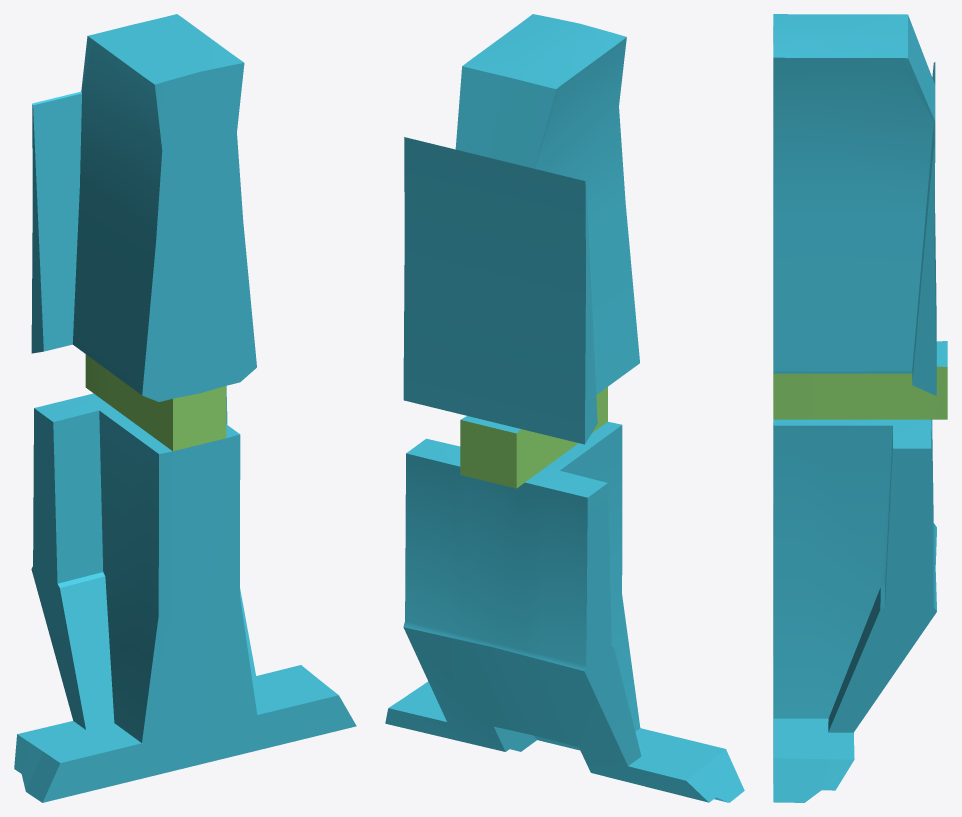
Rendered from T2_Column2.fbx.
3 renders of one model, left to right at view 1: azimuth 30°, elevation 25°; view 2: azimuth 150°, elevation 25°; view 3: azimuth 270°, elevation 25°, orthographic. The views are drawn at different scales.
Visible parts, largest first — view 1: T2_PillarMiddle; view 2: T2_PillarMiddle; view 3: T2_PillarMiddle.
Boxes of the visible parts, x1,y1,x2,y2 form: T2_PillarMiddle: (14, 14, 356, 802); T2_PillarMiddle: (385, 14, 744, 802); T2_PillarMiddle: (773, 14, 947, 802).
Bounding box in the file's own units: 120 × 250 × 57.
